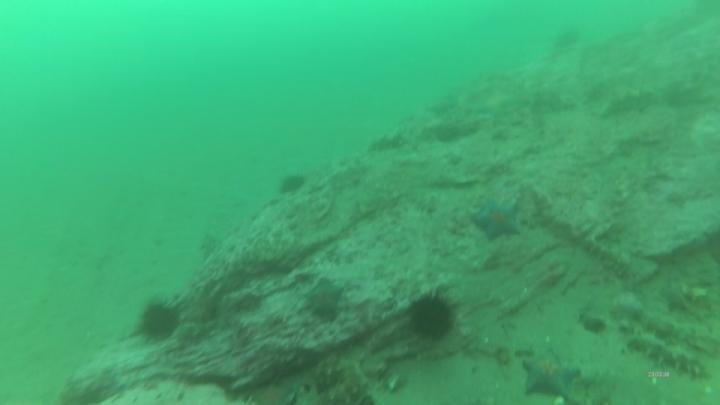echinus: (413, 299, 454, 339), (141, 305, 181, 338), (282, 175, 303, 194)
holothurian: (634, 333, 707, 387), (586, 238, 633, 275), (312, 368, 360, 404), (371, 136, 407, 151)
starfish: (523, 348, 580, 401), (475, 199, 522, 240), (308, 281, 345, 312)
